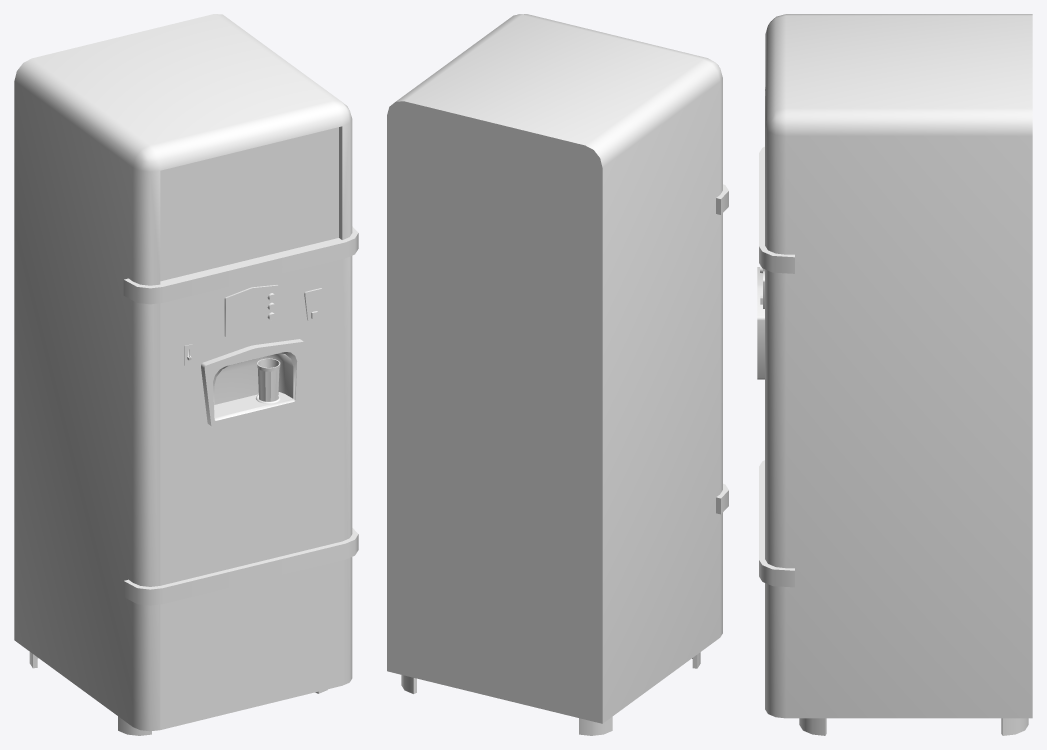
The picture shows the model from 3 angles, left to right: view 1: azimuth 30°, elevation 25°; view 2: azimuth 150°, elevation 25°; view 3: azimuth 270°, elevation 25°; orthographic projection. The views are drawn at different scales.
Size of the model in its own units: 0.7364 by 1.85 by 0.7436.
Materials: 1 (1 with a texture image).
